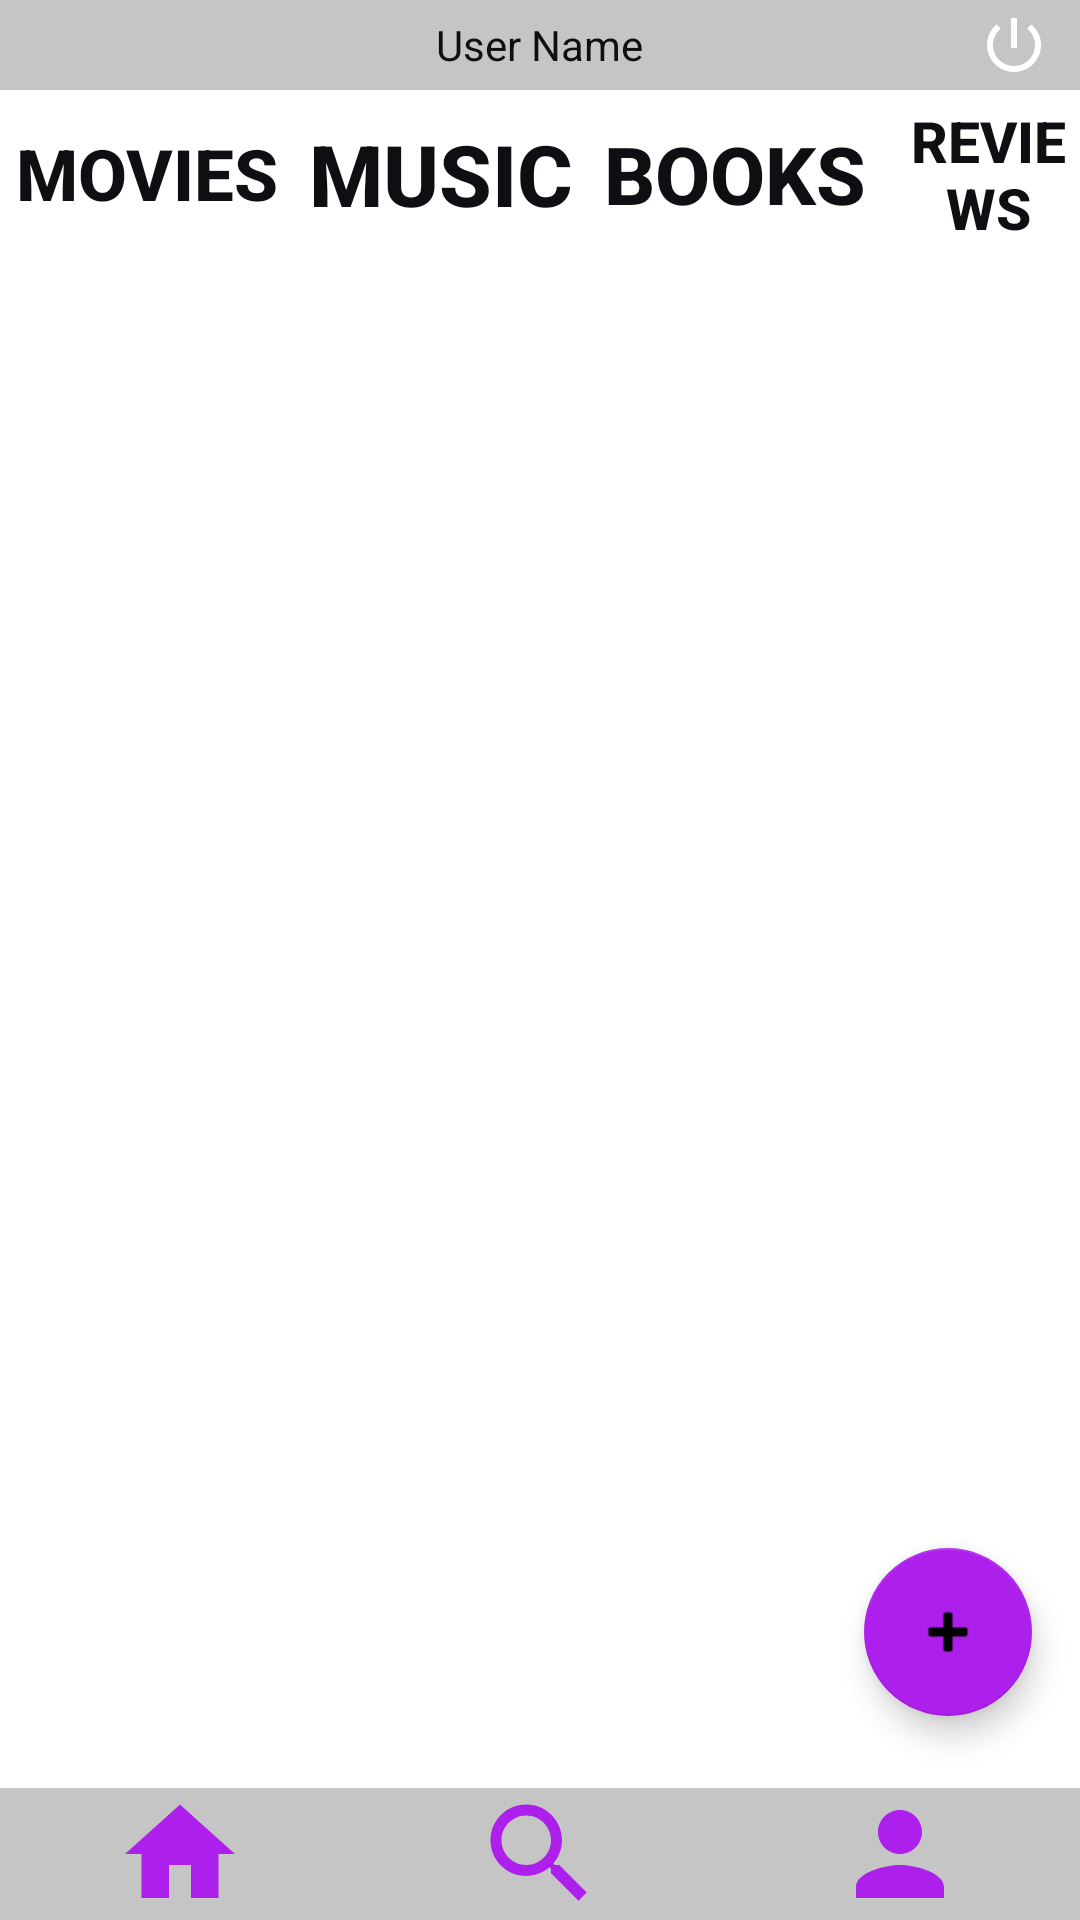

Icon click points for this 1080 x 1920 phone screenshot, format point (x, y):
add: point (948, 1632)
home: point (180, 1851)
Profile Icon: point (900, 1854)
search: point (538, 1852)
